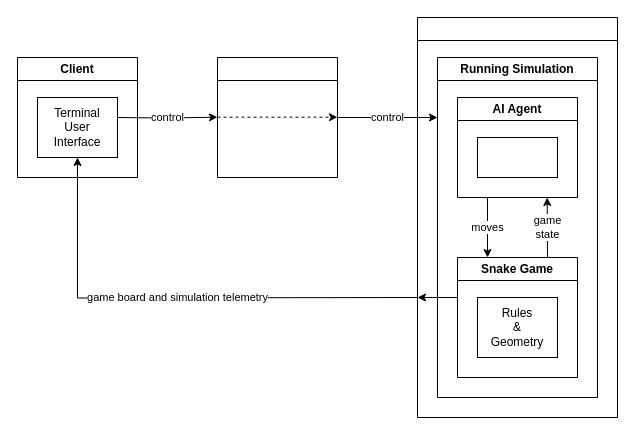
Image size: 635x435. Some labels were removed from this diagram. The box of each missing label's shape, as (x1, y1, x2, y2) in pixels:
Neural Network: (476, 136, 558, 178)
Router: (216, 56, 338, 178)
Simulation Server: (416, 16, 618, 418)
